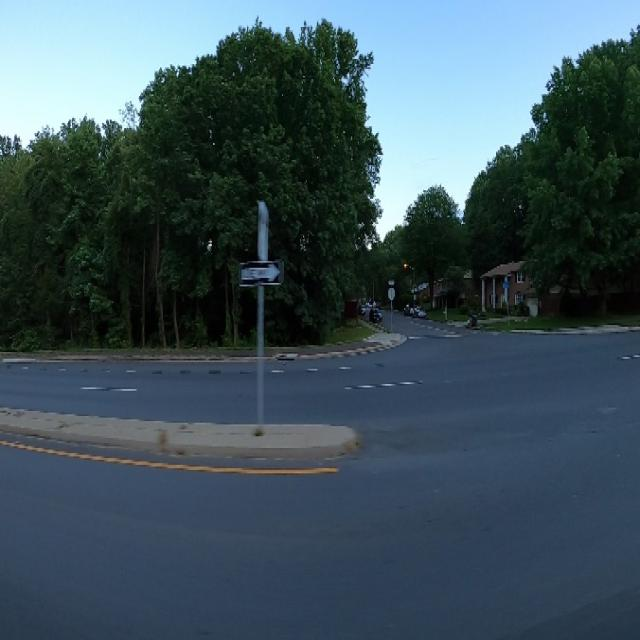cars: (414, 303, 428, 321), (403, 297, 414, 319), (371, 307, 383, 324), (358, 302, 368, 318)
